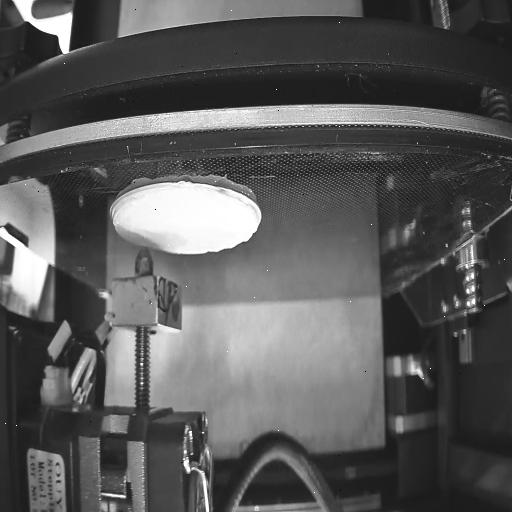over_extrusion: (112, 195, 136, 243), (242, 204, 260, 248)
